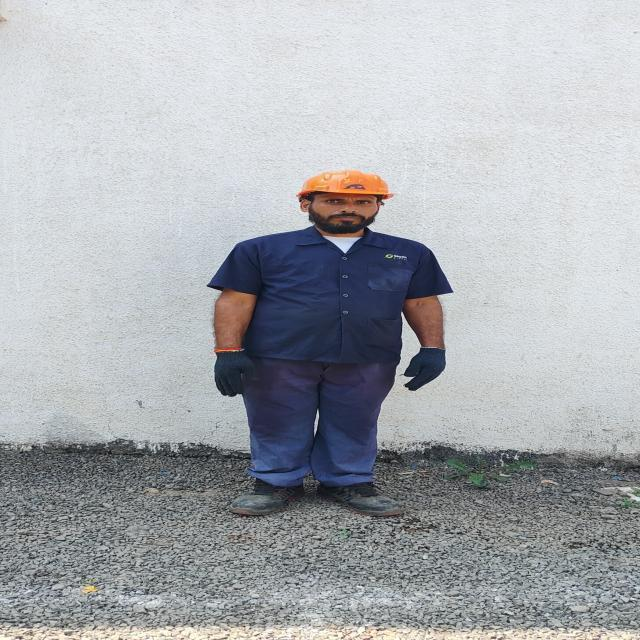gloved_hand: (174, 348, 280, 404), (385, 349, 487, 400)
